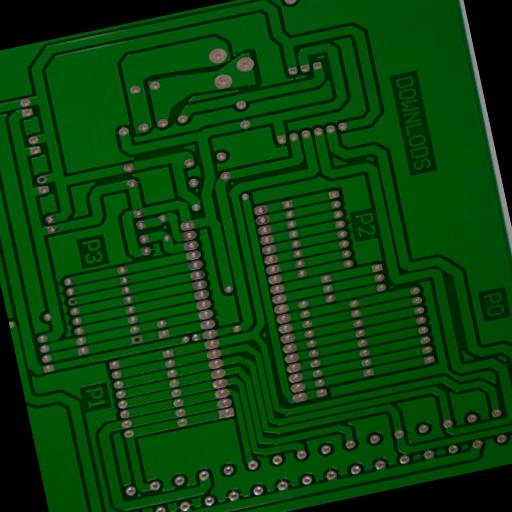missing_hole: (35, 173, 48, 184), (66, 294, 78, 304), (131, 333, 142, 343)
